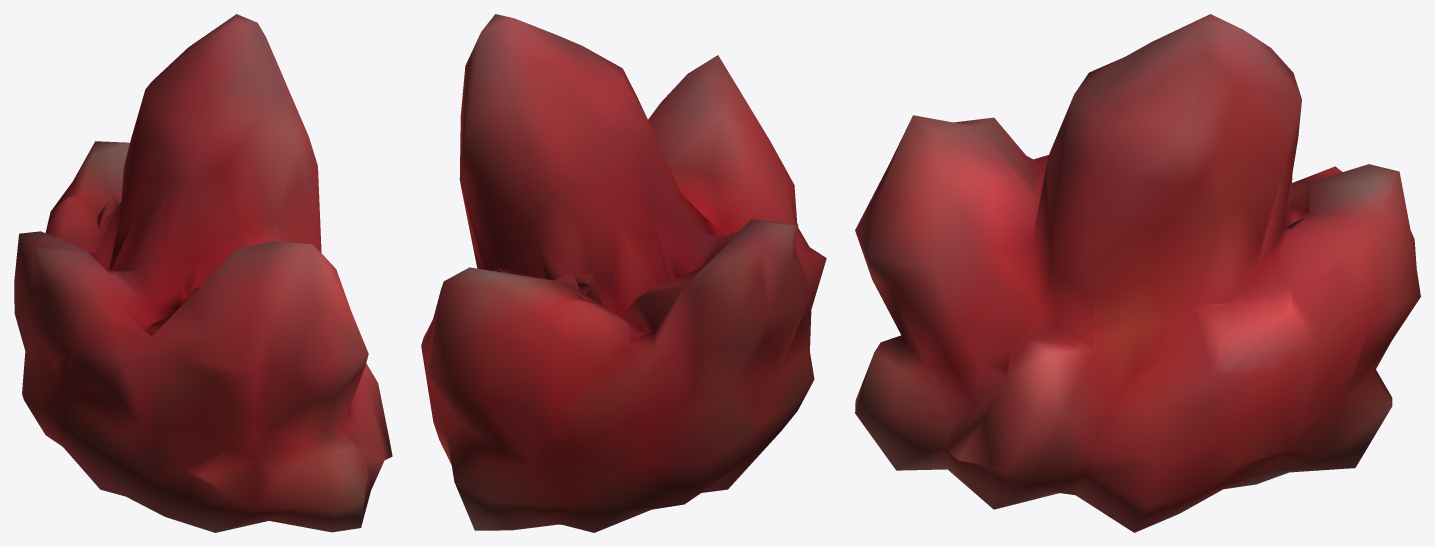
The model's file is crystal_red.glb.
3 renders of one model, left to right at view 1: azimuth 30°, elevation 25°; view 2: azimuth 150°, elevation 25°; view 3: azimuth 270°, elevation 25°, orthographic. The views are drawn at different scales.
Visible parts, largest first — view 1: model; view 2: model; view 3: model.
Part boxes in pixels (x1,y1,x2,y2): model: (14,14,392,532); model: (421,14,826,532); model: (855,14,1420,532).
Size of the model in its own units: 0.2728 by 0.3859 by 0.3978.
1 material, 1 textured.
